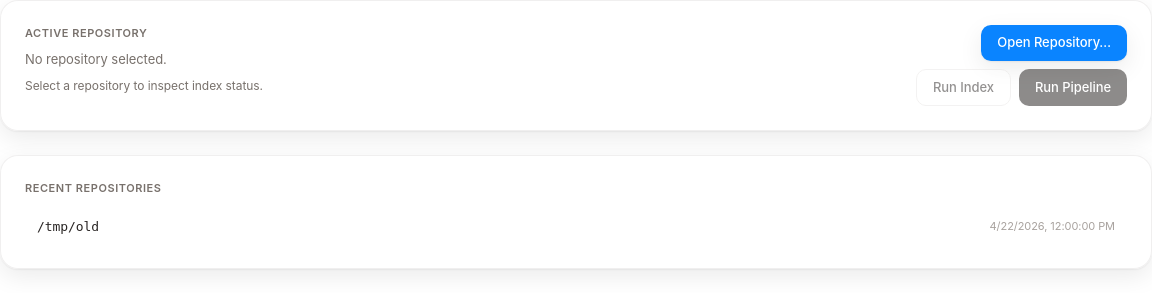
Test case: desktop index CTAs › Repository covers the no-repo state and recent repository selection
Expected: the text "Select a repository to inspect index status." is shown, [25,77,263,95]
Click the button "/tmp/old 4/22/2026, 12:00:00 PM": (68, 226) [25,208,1127,244]
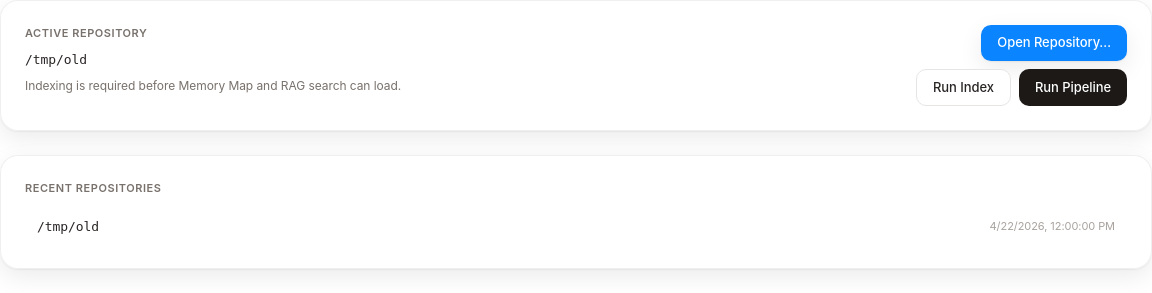
Result: the text "/tmp/old" below "Active Repository" is shown at [25,52,87,66]
Result: the text "Indexing is required before Memory Map and RAG search can load." is shown at [25,77,401,95]
